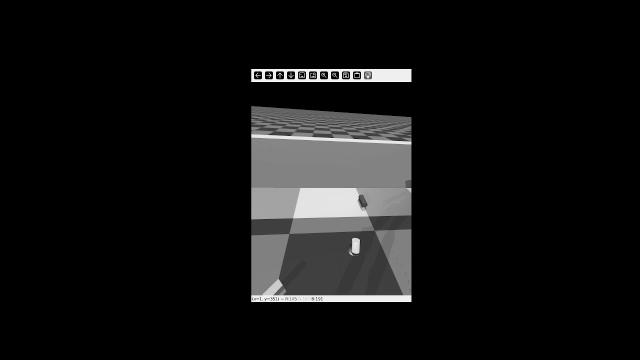cilindro: (348, 235, 363, 256), (357, 192, 368, 209)
rectangulo: (262, 277, 284, 296)
